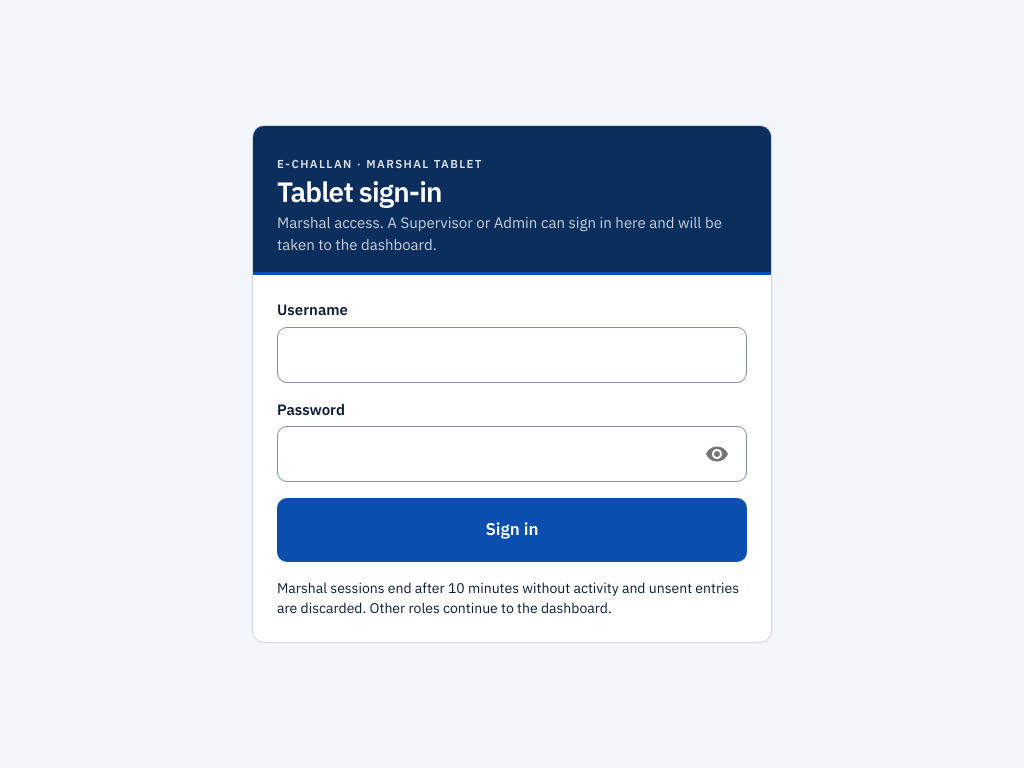
Test: AUTH-01/AUTH-04: tablet login, protected routes and idle logout › reveals the protected screen after a successful sign in
Type "EMP-3106" into the field labelled "Username" at coordinates (512, 354), box [277,326,747,382]
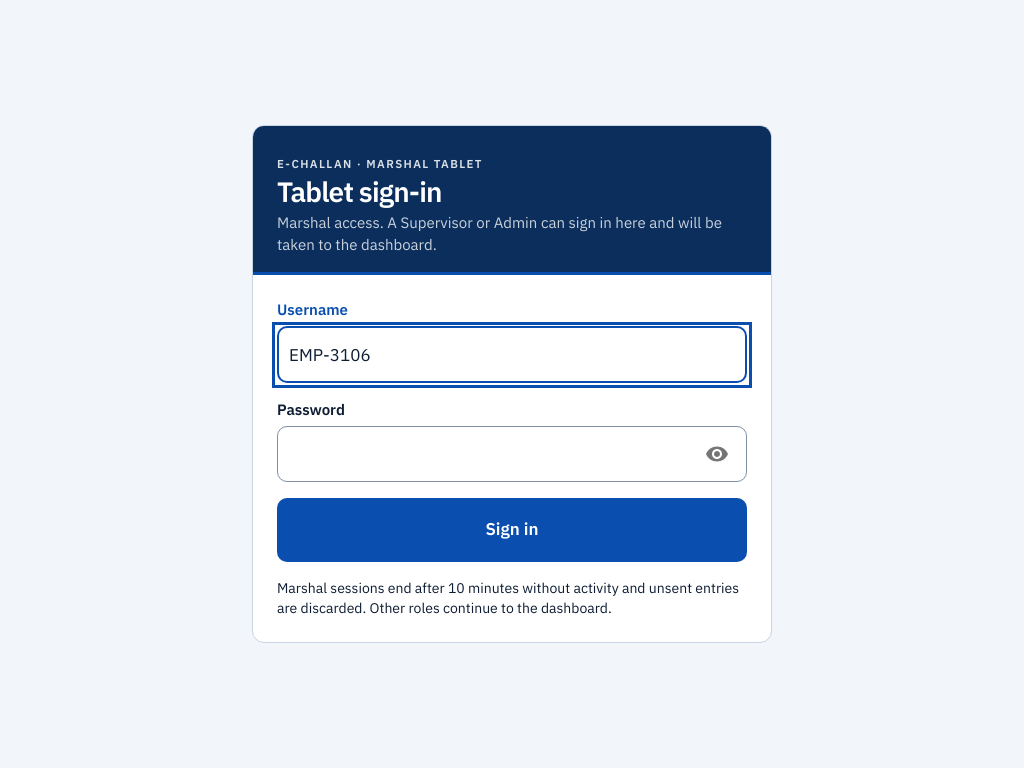
Type "planner-demo-marshal-secret" into the password field labelled "Password" at coordinates (479, 454), box [277,426,681,482]
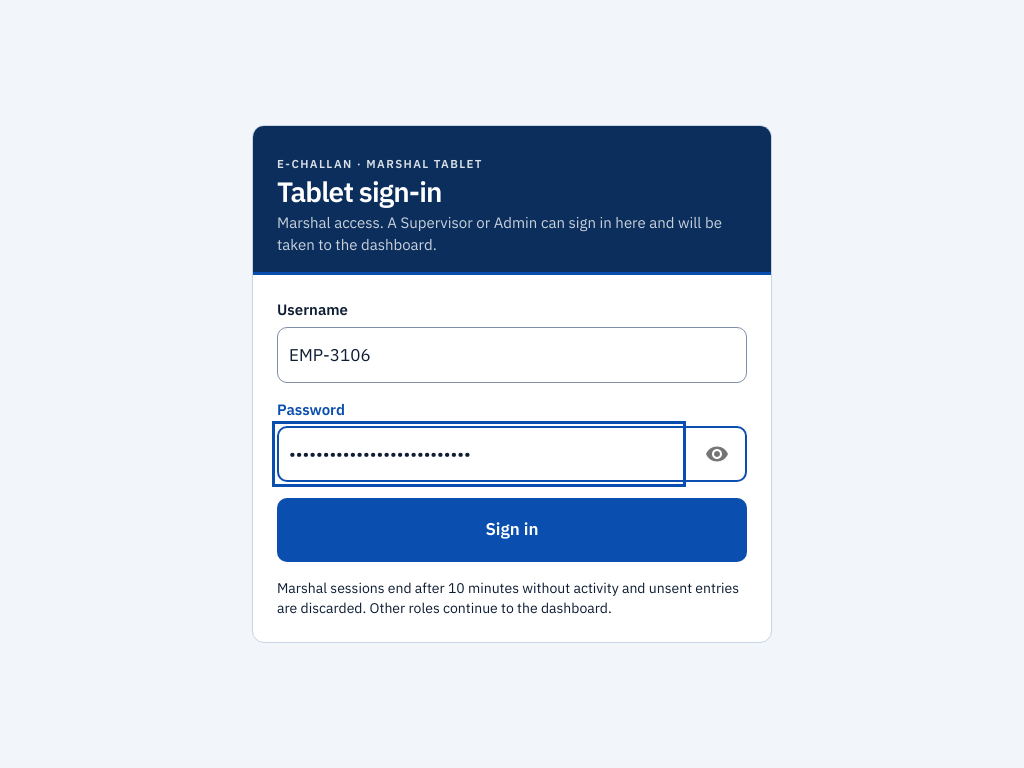
Click the button "Sign in" at coordinates (512, 530), box [277,498,747,562]
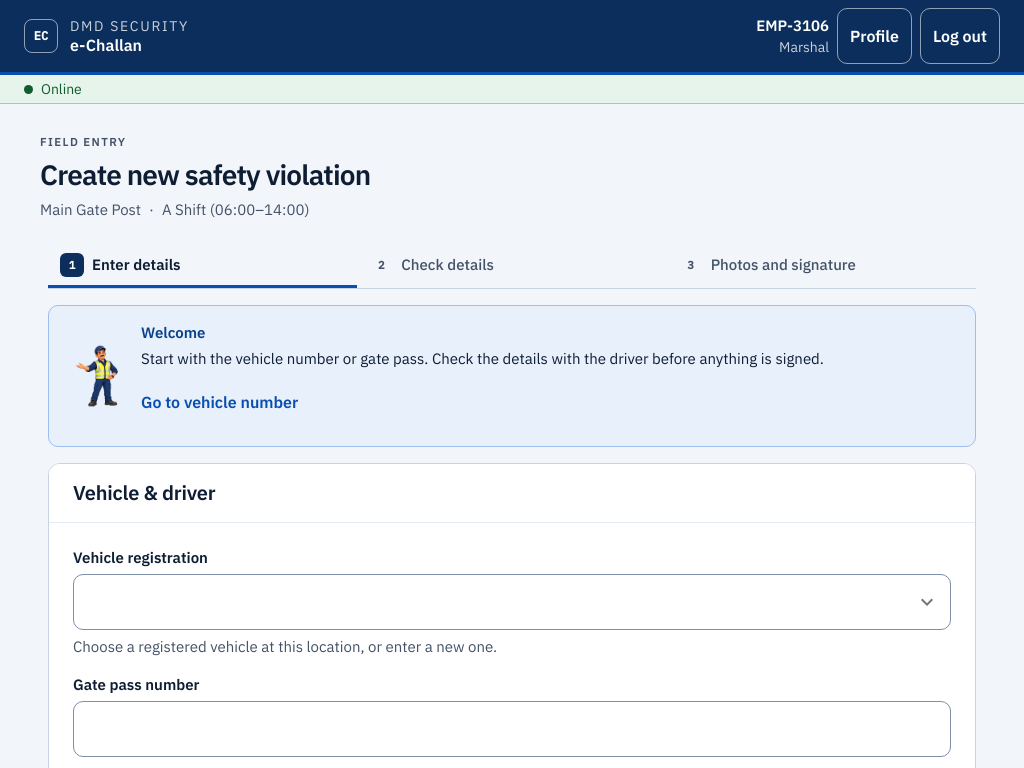
Check: the heading "Create new safety violation" is shown, box [40,156,370,192]
Check: the label labelled "Password" is gone
